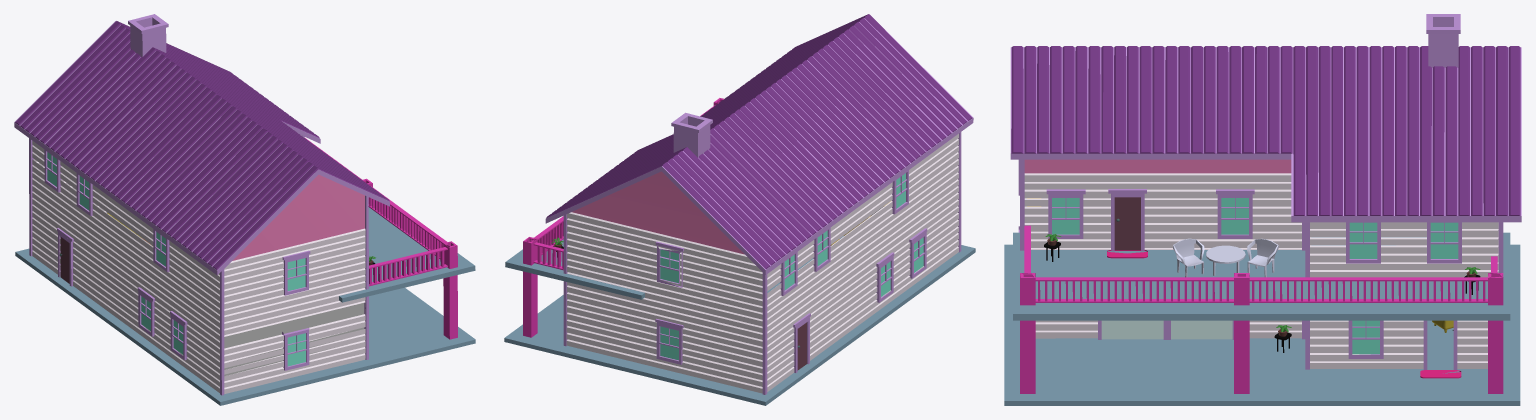
The model's file is HOUSE 2 FINAL.fbx.
3 renders of one model, left to right at view 1: azimuth 30°, elevation 25°; view 2: azimuth 150°, elevation 25°; view 3: azimuth 270°, elevation 25°, orthographic. The views are drawn at different scales.
Visible parts, largest first — view 1: polySurface3105; view 2: polySurface3105; view 3: polySurface3105.
Boxes of the visible parts, x1,y1,x2,y2 form: polySurface3105: (14, 14, 475, 405); polySurface3105: (504, 14, 975, 405); polySurface3105: (1004, 14, 1521, 405).
Bounding box in the file's own units: 1383 × 1183 × 1901.
14 materials, 11 textured.
